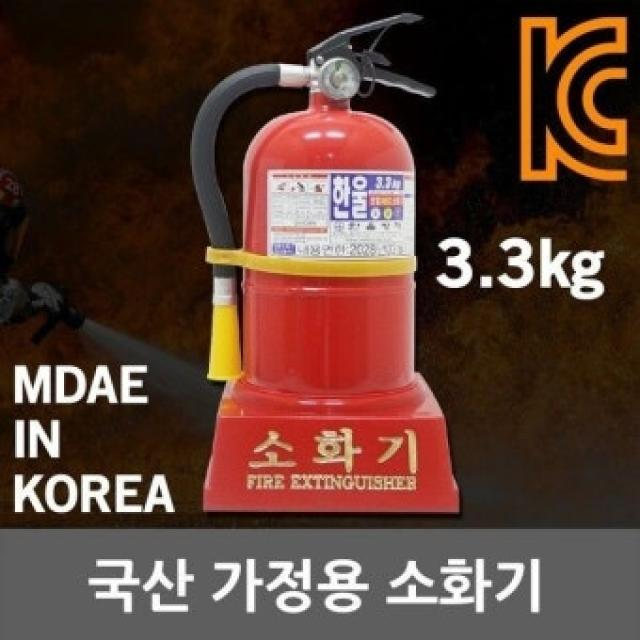pressure gauge: (319, 59, 361, 99)
